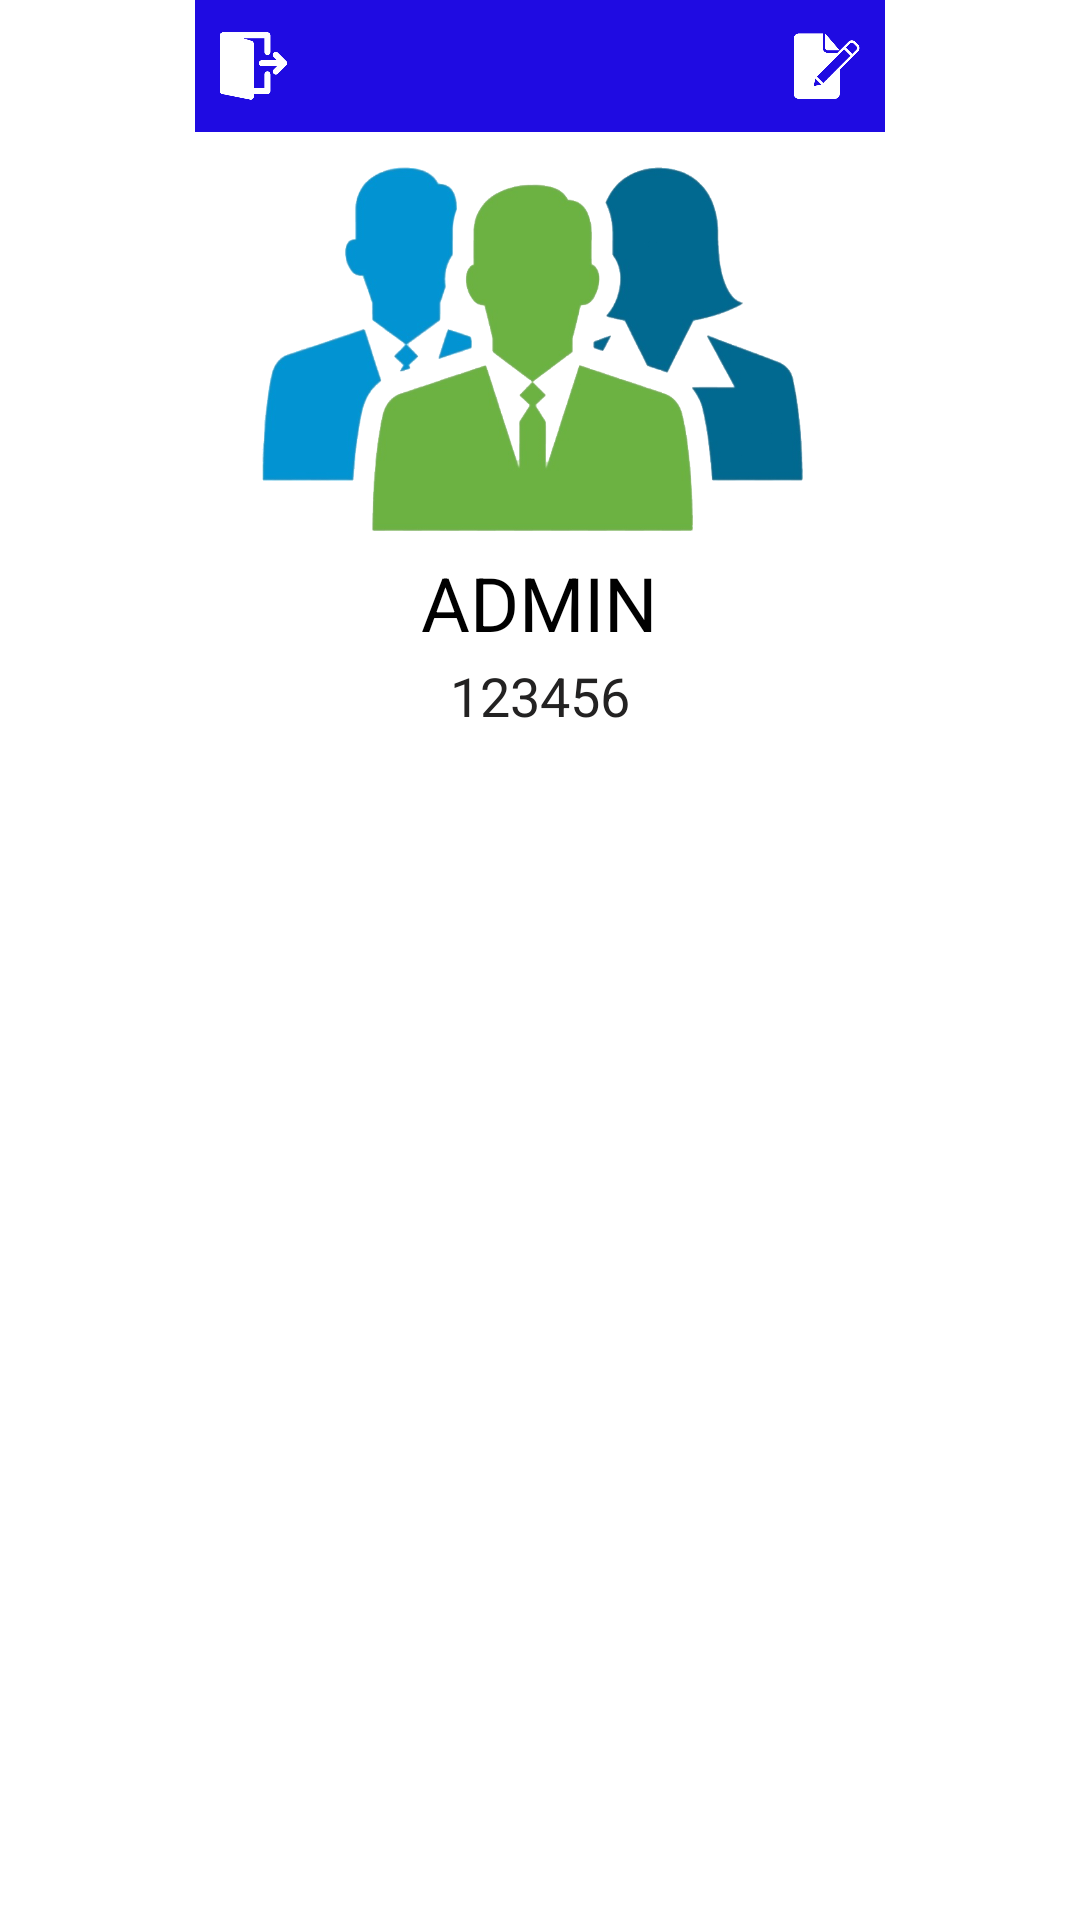

Point at icon controls on the screen. Image size 1080 x 1920, points as point (x, y).
edit: point (827, 66)
exit: point (253, 66)
